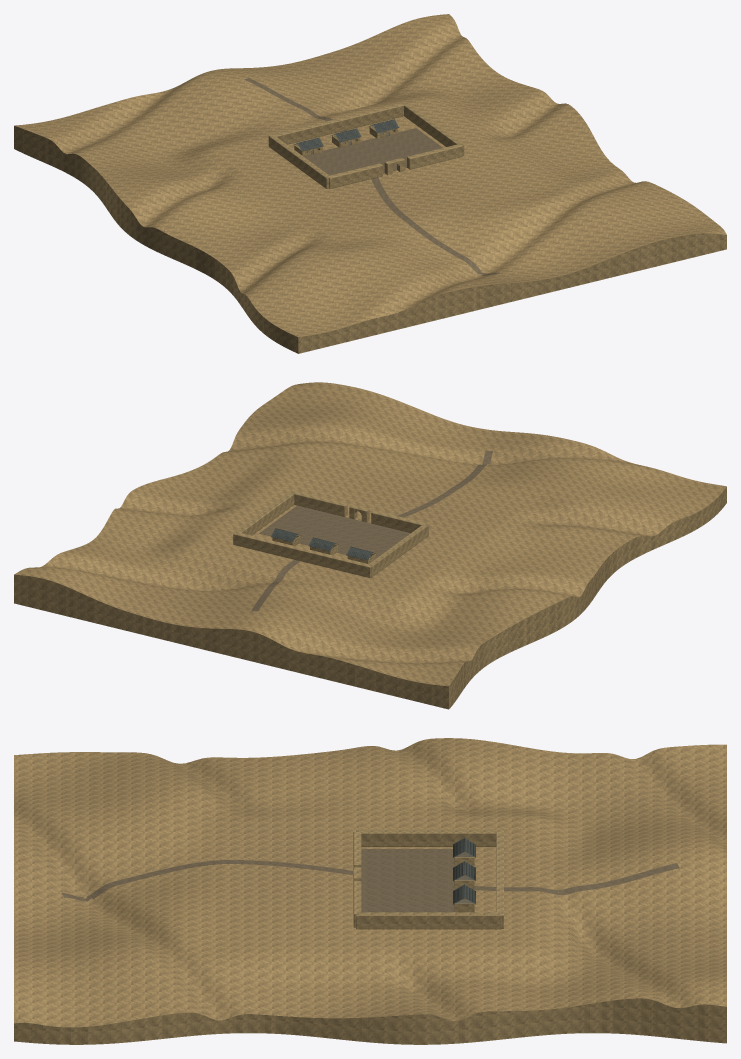
File: ch12_jiangtaibao_reunion.glb
3 views of the same model, one above another, from view 1: azimuth 30°, elevation 25°; view 2: azimuth 150°, elevation 25°; view 3: azimuth 270°, elevation 25° (orthographic). The views are drawn at different scales.
Parts seen in each view (by area): view 1: terrain__eroded_landscape, terrain_boundary__closed_earth_boundary, earthen_fort_walls, reunion_ground__earthen_courtyard, settlement_road__settlement_road; view 2: terrain__eroded_landscape, terrain_boundary__closed_earth_boundary, earthen_fort_walls, reunion_ground__earthen_courtyard, settlement_road__settlement_road; view 3: terrain__eroded_landscape, terrain_boundary__closed_earth_boundary, earthen_fort_walls, reunion_ground__earthen_courtyard, settlement_road__settlement_road.
Part boxes in pixels (bbox=[...]): terrain__eroded_landscape: bbox=[15, 14, 726, 337]; terrain_boundary__closed_earth_boundary: bbox=[14, 125, 726, 353]; earthen_fort_walls: bbox=[268, 102, 464, 188]; reunion_ground__earthen_courtyard: bbox=[304, 128, 442, 175]; settlement_road__settlement_road: bbox=[244, 78, 499, 275]; terrain__eroded_landscape: bbox=[14, 382, 726, 686]; terrain_boundary__closed_earth_boundary: bbox=[14, 487, 726, 709]; earthen_fort_walls: bbox=[233, 491, 428, 577]; reunion_ground__earthen_courtyard: bbox=[259, 505, 410, 558]; settlement_road__settlement_road: bbox=[251, 451, 492, 611]; terrain__eroded_landscape: bbox=[14, 738, 726, 1027]; terrain_boundary__closed_earth_boundary: bbox=[14, 998, 726, 1044]; earthen_fort_walls: bbox=[353, 830, 503, 929]; reunion_ground__earthen_courtyard: bbox=[361, 849, 457, 912]; settlement_road__settlement_road: bbox=[61, 860, 679, 901].
Size of the model in its own units: 199 by 16.37 by 220.
Materials: 5 (5 with a texture image).
